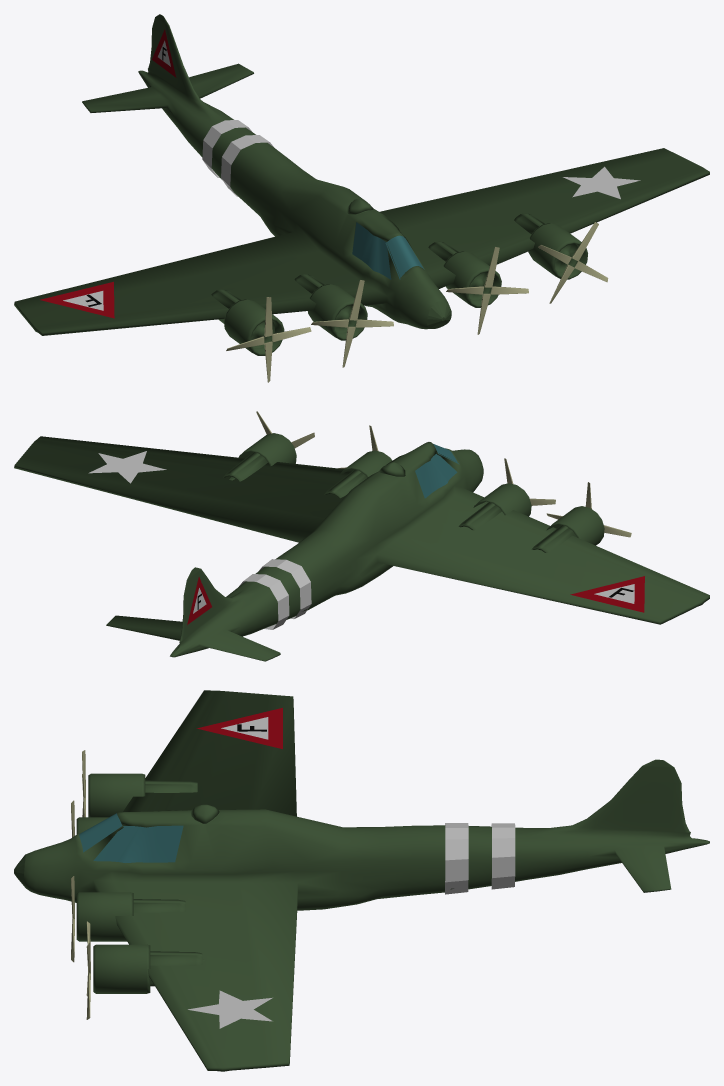
The model's file is Bomber.dae.
3 views of the same model, one above another, from view 1: azimuth 30°, elevation 25°; view 2: azimuth 150°, elevation 25°; view 3: azimuth 270°, elevation 25° (orthographic). The views are drawn at different scales.
Parts seen in each view (by area): view 1: Body, Cylinder_005, Cylinder_007, Cylinder_004, Cylinder_006, windows, Circle_005, Plane, Circle_004; view 2: Body, Cylinder_005, Circle_005, Cylinder_007, Cylinder_004, Cylinder_006, windows, Plane, Circle_004, Plane_005; view 3: Body, Cylinder_007, windows, Circle_005, Cylinder_006, Cylinder_005, Plane, Circle_004.
Boxes of the visible parts, x1,y1,x2,y2 form: Body: (14, 14, 709, 335); Cylinder_005: (211, 289, 284, 355); Cylinder_007: (514, 213, 587, 279); Cylinder_004: (294, 274, 367, 340); Cylinder_006: (428, 241, 501, 307); windows: (352, 222, 424, 279); Circle_005: (202, 120, 274, 196); Plane: (40, 281, 114, 318); Circle_004: (563, 166, 640, 199); Body: (14, 436, 709, 661); Cylinder_005: (531, 506, 604, 552); Circle_005: (239, 559, 311, 629); Cylinder_007: (222, 433, 296, 481); Cylinder_004: (458, 483, 531, 530); Cylinder_006: (324, 450, 392, 498); windows: (415, 444, 459, 498); Plane: (570, 576, 644, 612); Circle_004: (88, 451, 166, 483); Plane_005: (187, 577, 211, 624); Body: (14, 690, 709, 1071); Cylinder_007: (93, 944, 204, 993); windows: (79, 813, 183, 862); Circle_005: (445, 823, 515, 894); Cylinder_006: (76, 892, 185, 941); Cylinder_005: (88, 773, 197, 817); Plane: (196, 708, 282, 749); Circle_004: (188, 990, 272, 1028).
Size of the model in its own units: 3.71 by 2.92 by 0.7825.
